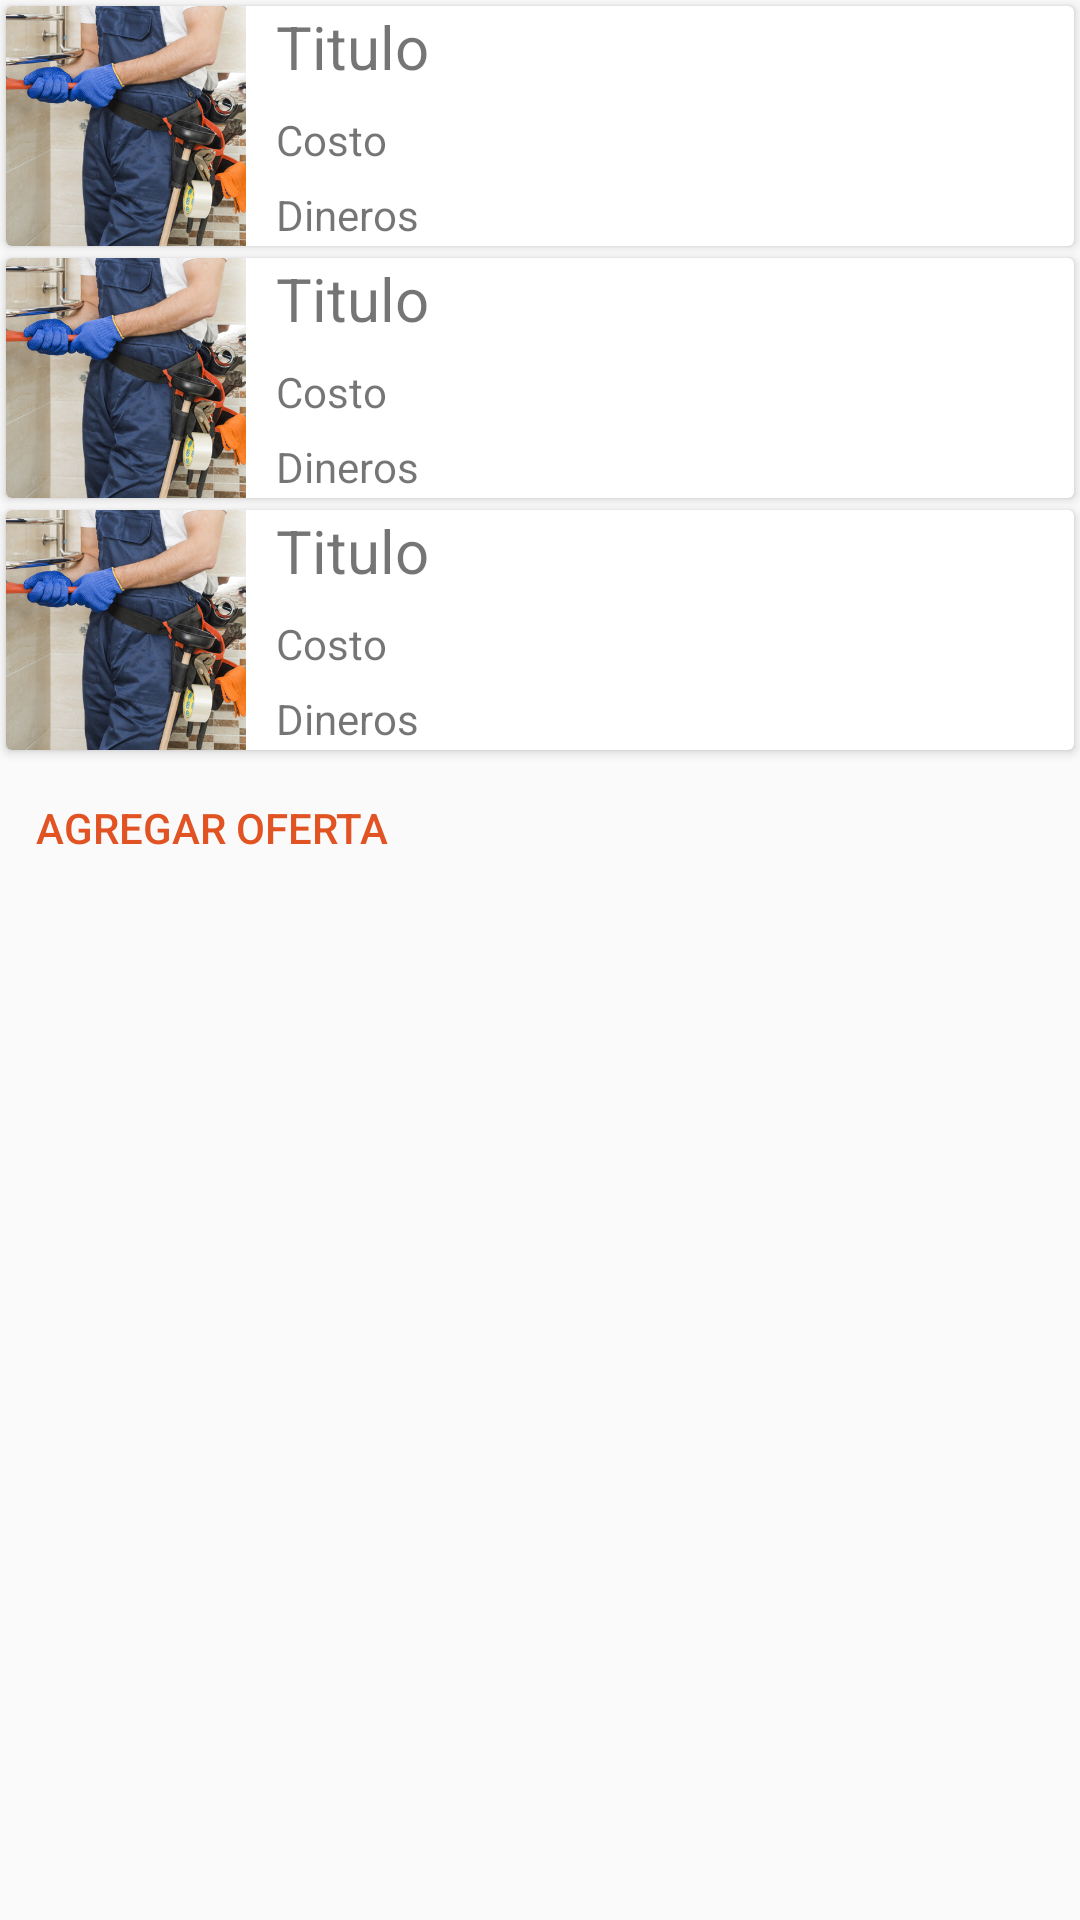

Icon click points for this 1080*1920 phone screenshot, format (x=x, y=y):
plomero: (x=126, y=126), (x=126, y=378), (x=126, y=630)
